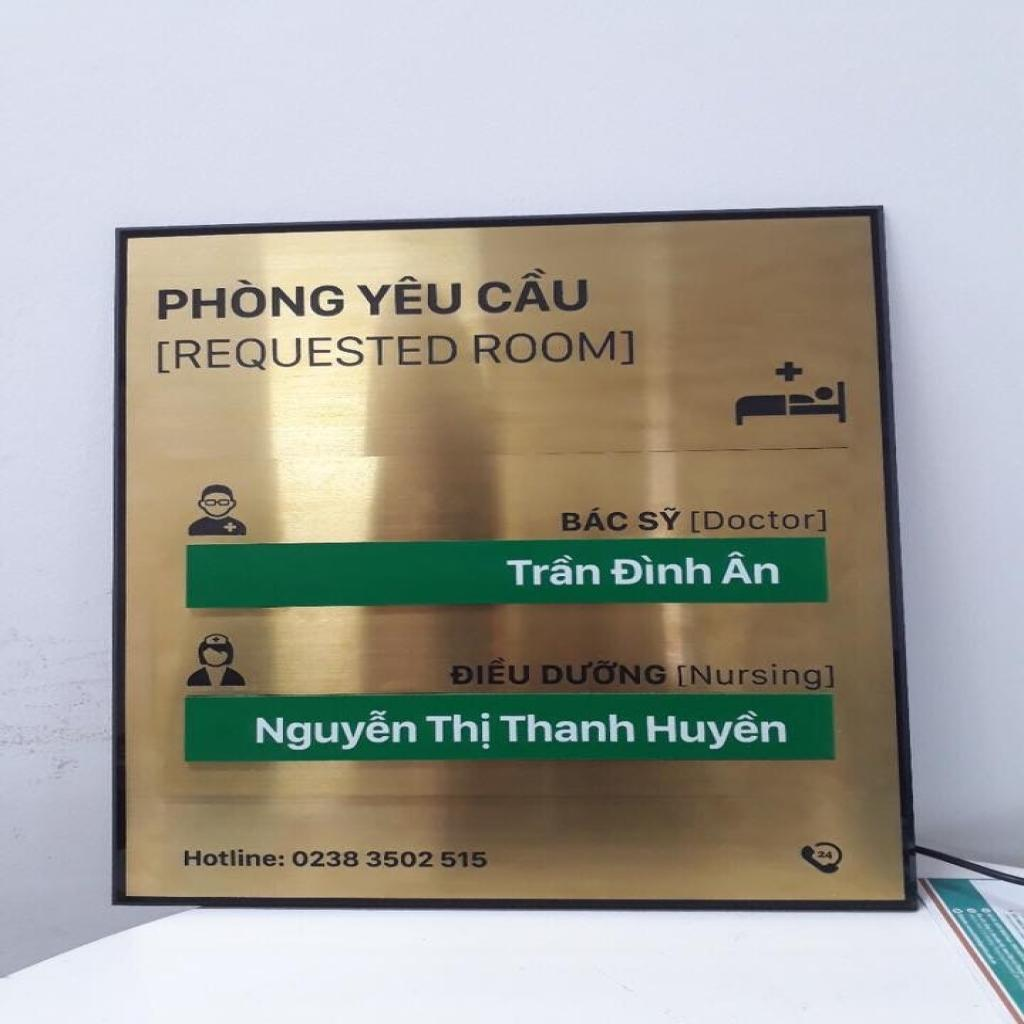text: (152, 333, 462, 375), (155, 275, 347, 321), (250, 708, 417, 753), (644, 708, 791, 754), (470, 327, 638, 367), (471, 264, 590, 316), (676, 662, 838, 694), (354, 276, 464, 317), (496, 714, 638, 744), (688, 506, 828, 536), (542, 656, 671, 687), (292, 852, 492, 870), (504, 554, 604, 588), (609, 556, 715, 588), (421, 709, 496, 753), (445, 654, 533, 686), (181, 846, 287, 871), (721, 549, 784, 586), (558, 506, 630, 534), (637, 502, 686, 534), (812, 847, 838, 863)
